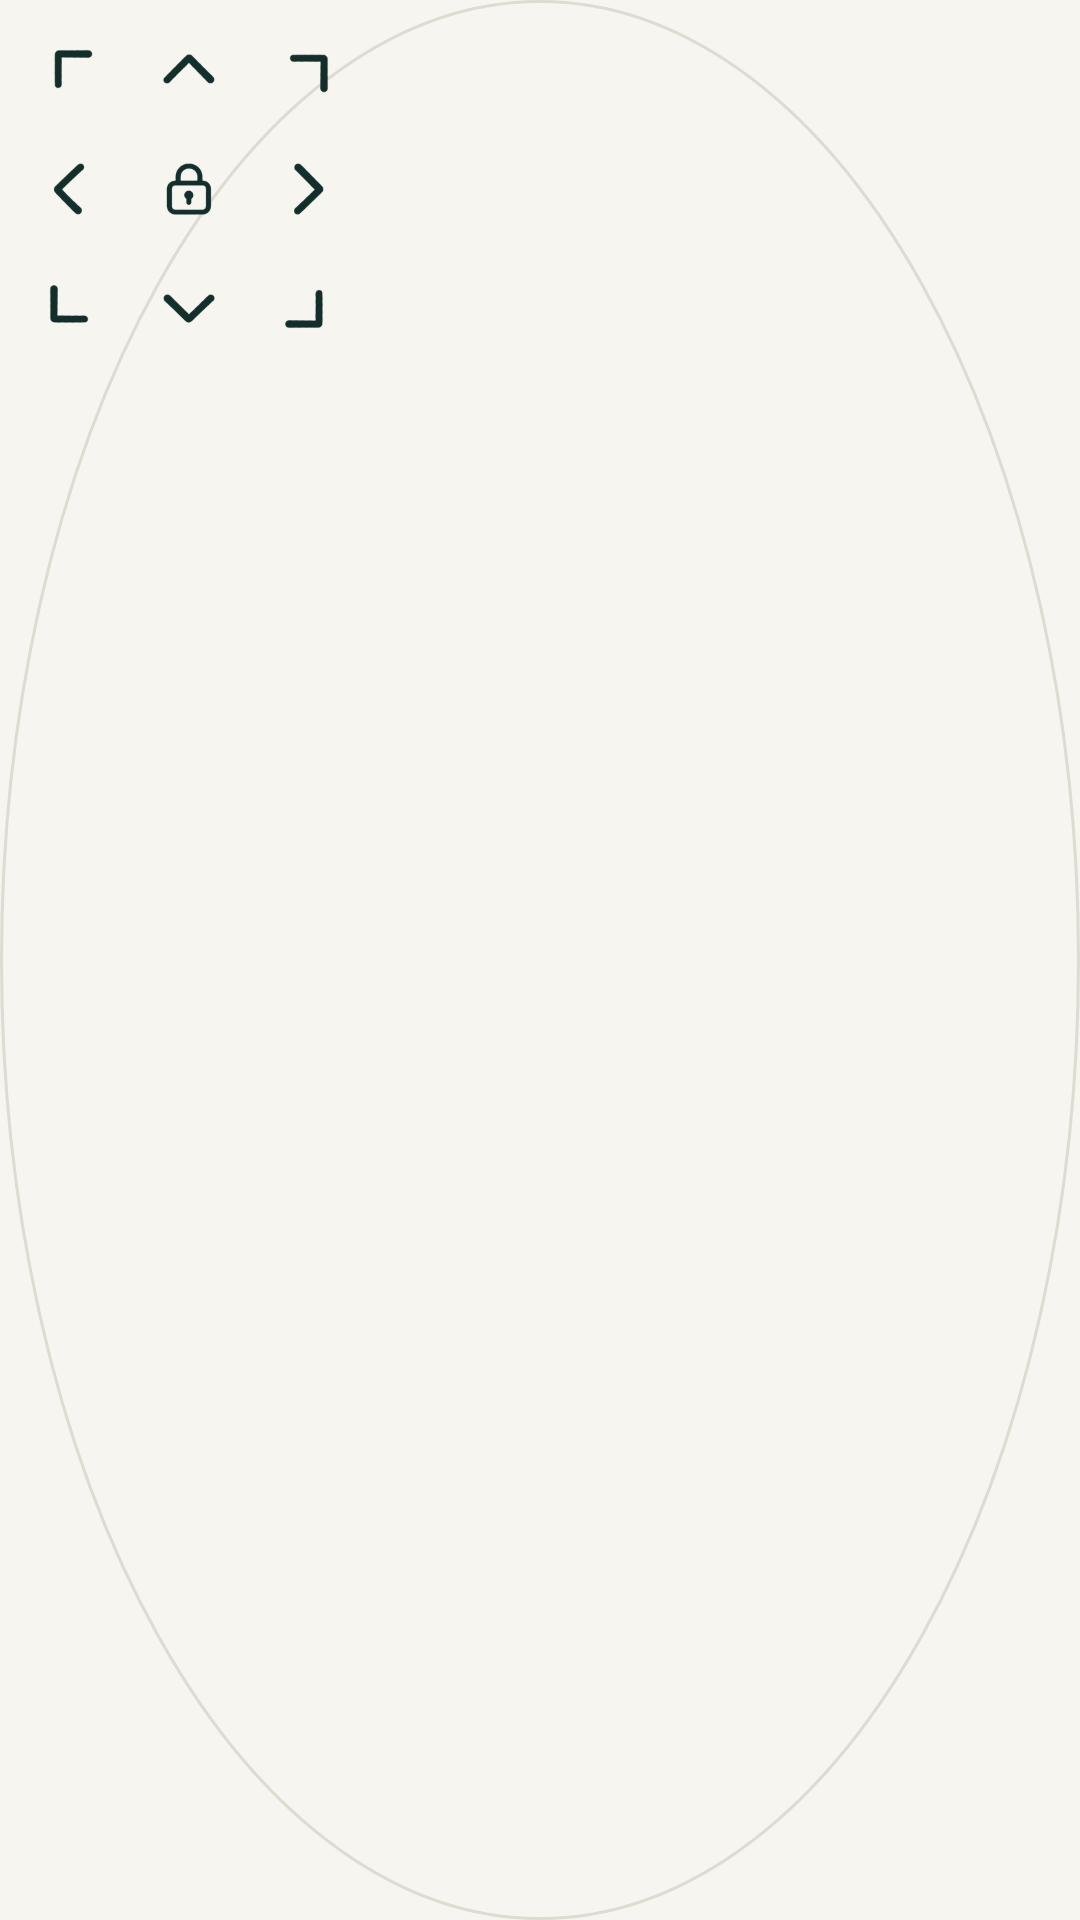

Where icons sit on this 1080*1920 app screen, as (x1,y1,x2,y2):
切换持续移动: (166,152,249,249)
向上移动: (163,54,215,84)
向下移动: (163,294,215,323)
向右下移动: (285,290,323,328)
向右移动: (294,163,324,215)
向左上移动: (54,50,93,88)
向左下移动: (50,285,88,323)
向左移动: (54,163,84,215)
